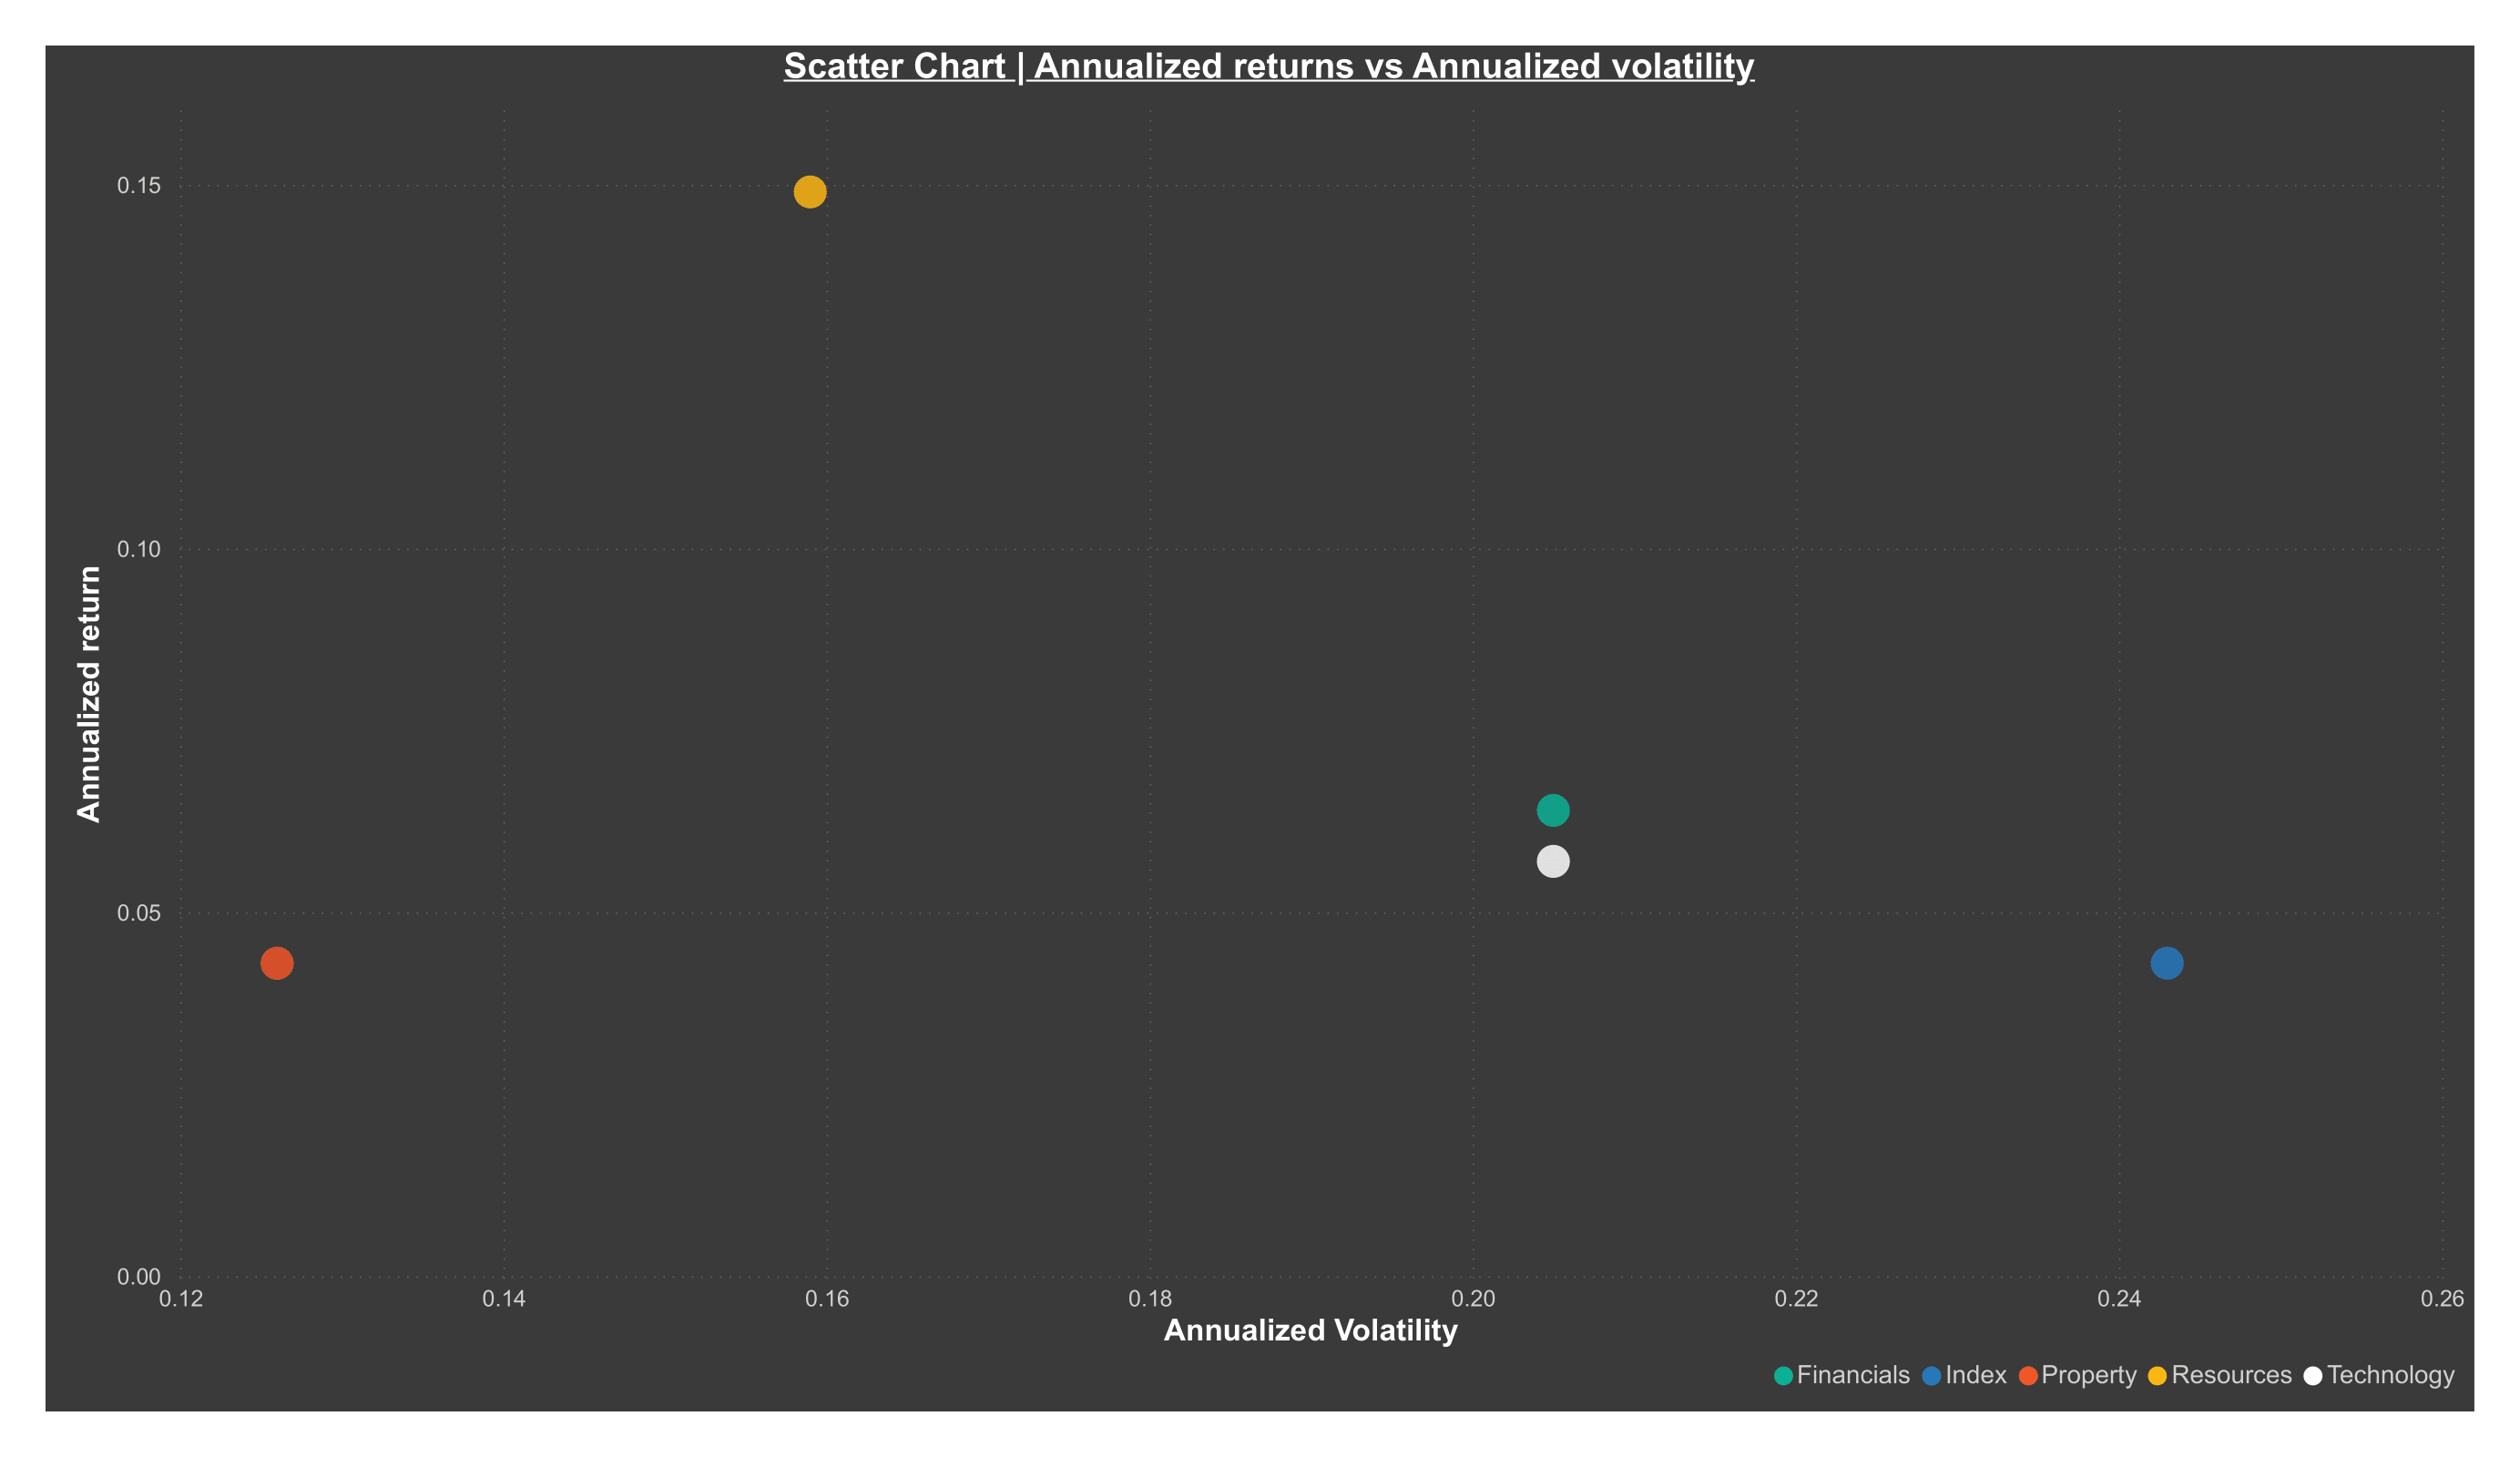

The page's visual inventory and layout, read from the dashboard file:
{"tool":"powerbi","page":{"name":"Scatter Chart – Annualized Return vs. Annualized Volatility","canvas":[1280,720],"ordinal":5},"visuals":[{"type":"scatterChart","title":"Scatter Chart | Annualized returns vs Annualized volatility","fields":{"X":["Overall metrics.Annualized_Volatility"],"Y":["Overall metrics.Annualized_Return"],"Series":["Overall metrics.Sector"]},"box":[10,0,1270,720],"z":0}]}

Visuals, with their boxes on the page's 1280x720 design canvas (x1, y1, x2, y2). These are canvas units, not pixel positions in the 2520x1457 screenshot, which may show the page scaled, cropped or inside an application window:
"Scatter Chart | Annualized returns vs Annualized volatility" scatterChart: (x1=10, y1=0, x2=1280, y2=720)
